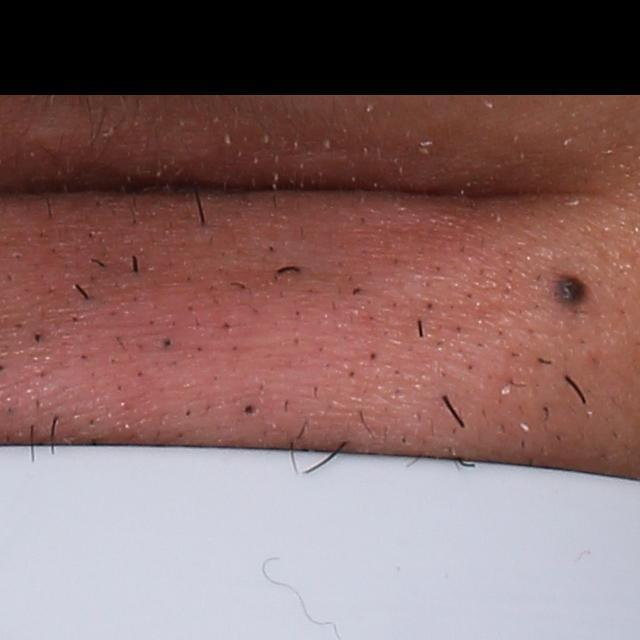nevus: (551, 269, 596, 309)
